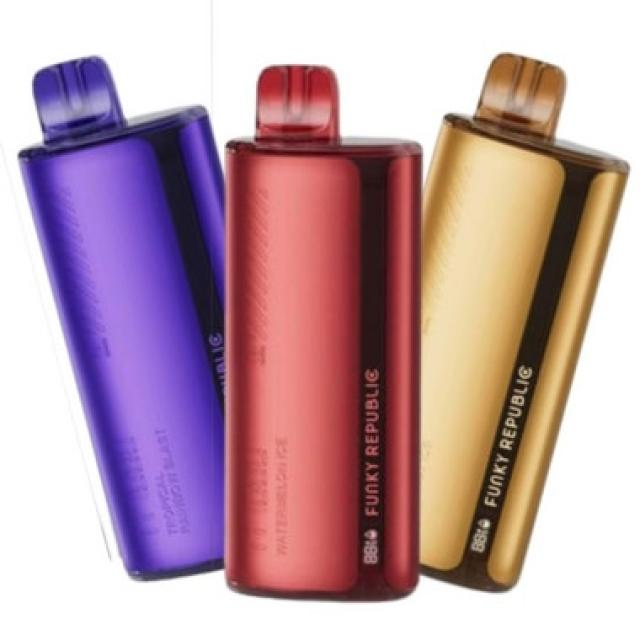Vape-images: (220, 61, 422, 601)
